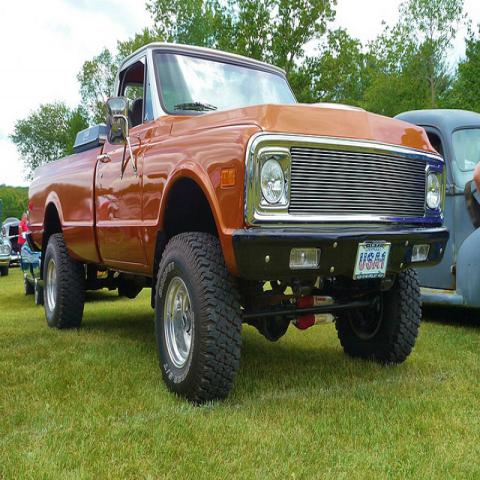car: (393, 108, 479, 308), (20, 240, 43, 305), (0, 215, 21, 277)
truck: (29, 46, 446, 396)
